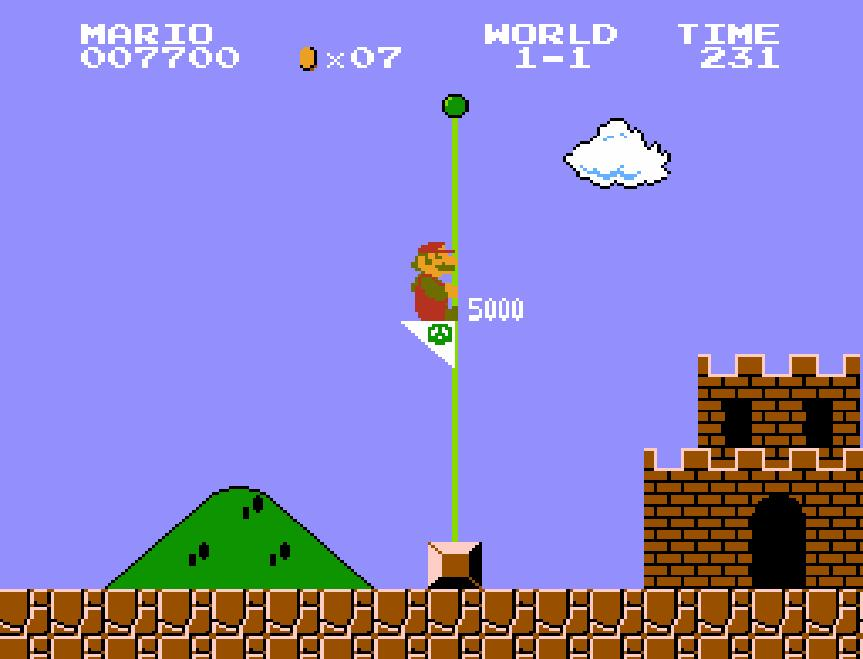big_mario: (402, 233, 461, 331)
